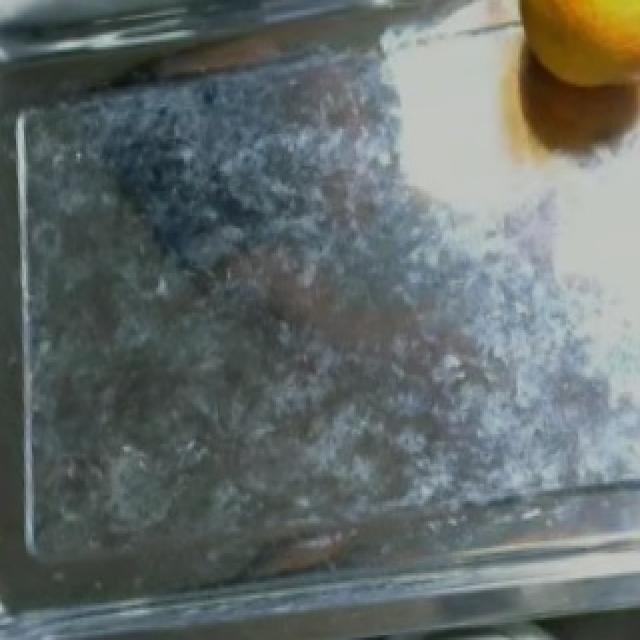Fruit: (484, 2, 640, 144)
